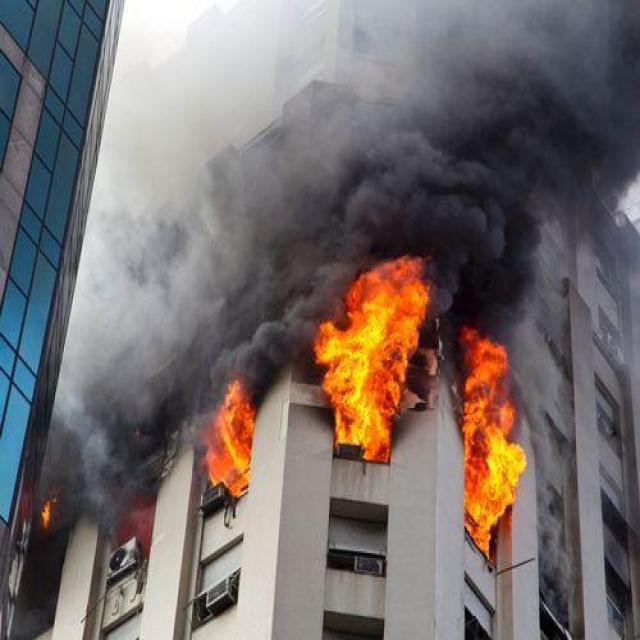Fire: (306, 249, 432, 478), (452, 324, 528, 567), (197, 377, 260, 510)
Smoke: (58, 161, 195, 518), (67, 419, 132, 566)
